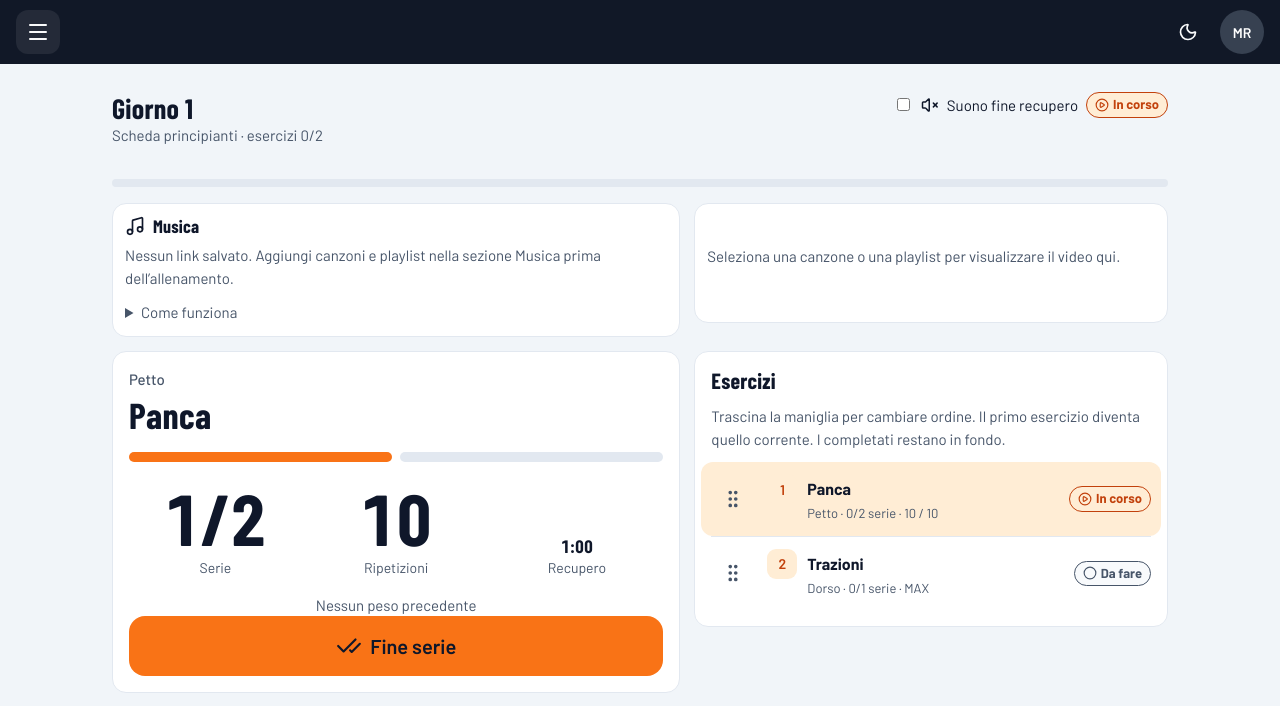
Test: workout screen › keeps the message but skips the animation with prefers-reduced-motion
Click the button "Fine serie". click: {"x": 396, "y": 646}
box: [129,616,663,676]
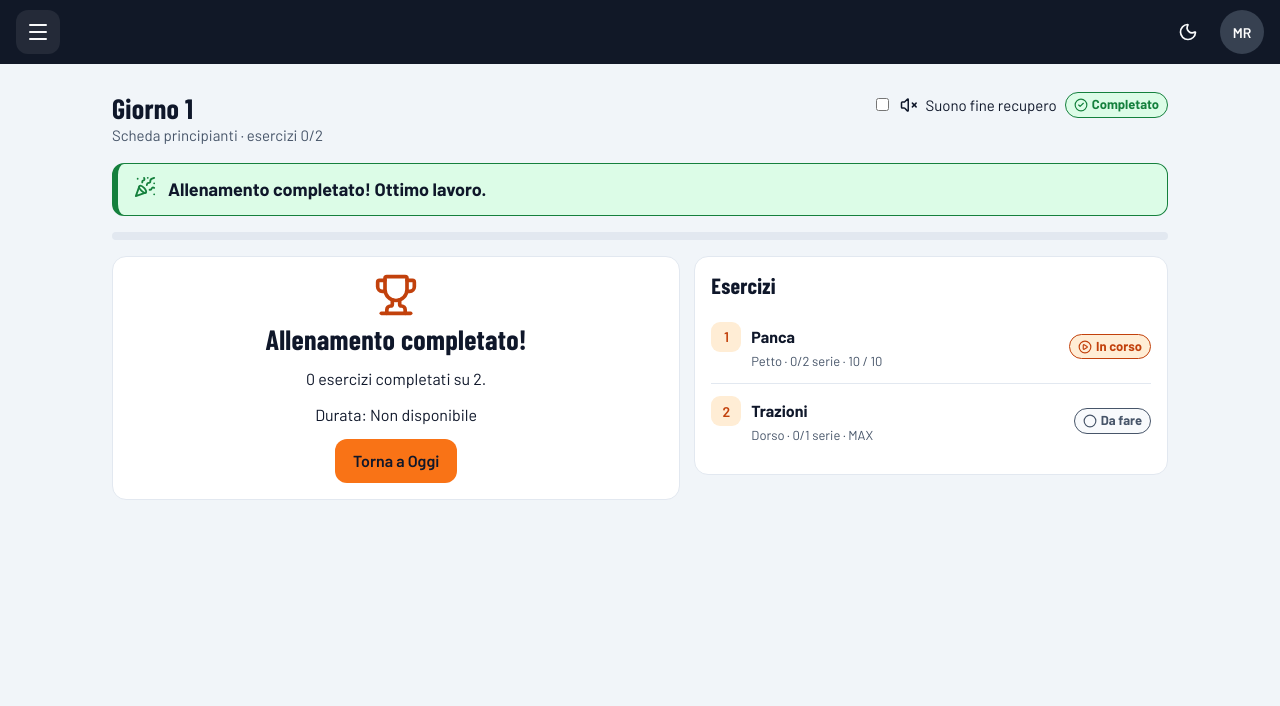
Result: the text "Allenamento completato! Ottimo lavoro." is shown at [168,178,486,200]
